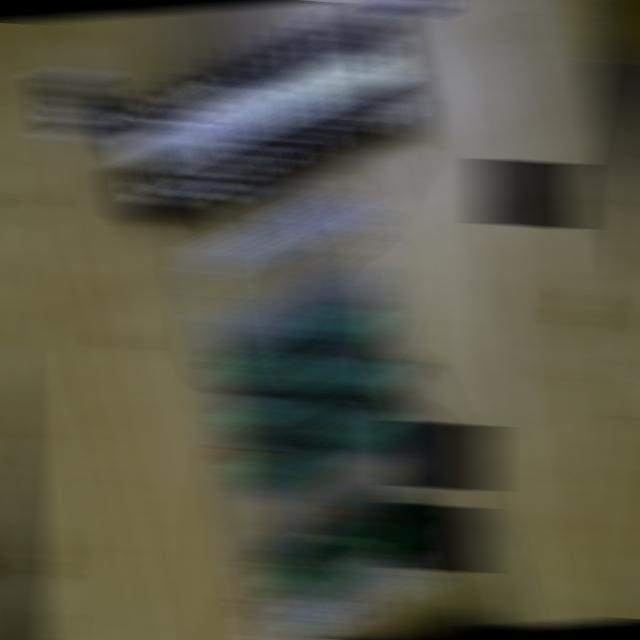Phillips_Block: (91, 3, 432, 216)
Terminal_1: (265, 537, 355, 602), (337, 499, 425, 564)
Terminal_2: (226, 382, 313, 444), (236, 433, 324, 494), (320, 397, 403, 457), (301, 295, 383, 352), (311, 346, 393, 403)
